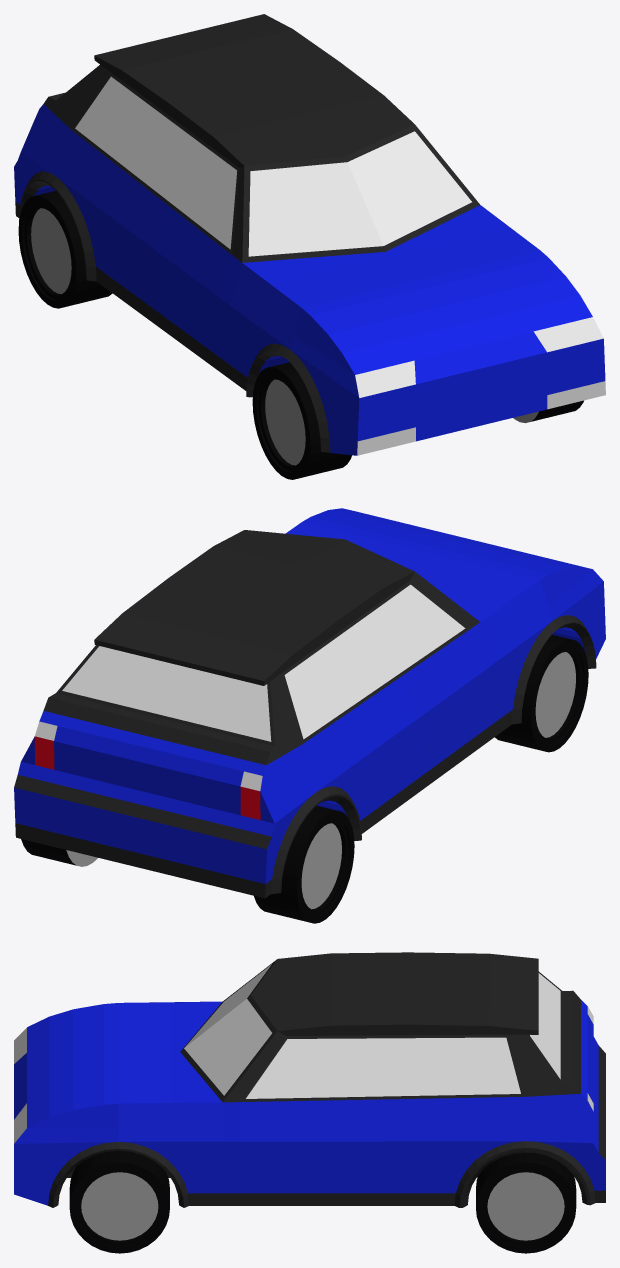
Rendered from minicooper.fbx.
3 views of the same model, one above another, from view 1: azimuth 30°, elevation 25°; view 2: azimuth 150°, elevation 25°; view 3: azimuth 270°, elevation 25° (orthographic). The views are drawn at different scales.
Parts seen in each view (by area): view 1: Body, FrontLeft, BackLeft; view 2: Body, BackLeft, FrontLeft, BackRight; view 3: Body, FrontRight, BackRight.
Part boxes in pixels (<box>): Body: <box>14,14,605,455</box>; FrontLeft: <box>252,362,351,479</box>; BackLeft: <box>18,191,112,308</box>; Body: <box>14,508,605,898</box>; BackLeft: <box>254,805,354,923</box>; FrontLeft: <box>495,634,588,752</box>; BackRight: <box>21,839,97,866</box>; Body: <box>14,952,605,1207</box>; FrontRight: <box>69,1150,169,1253</box>; BackRight: <box>476,1152,576,1253</box>.
Bounding box in the file's own units: 205 × 167 × 435.
